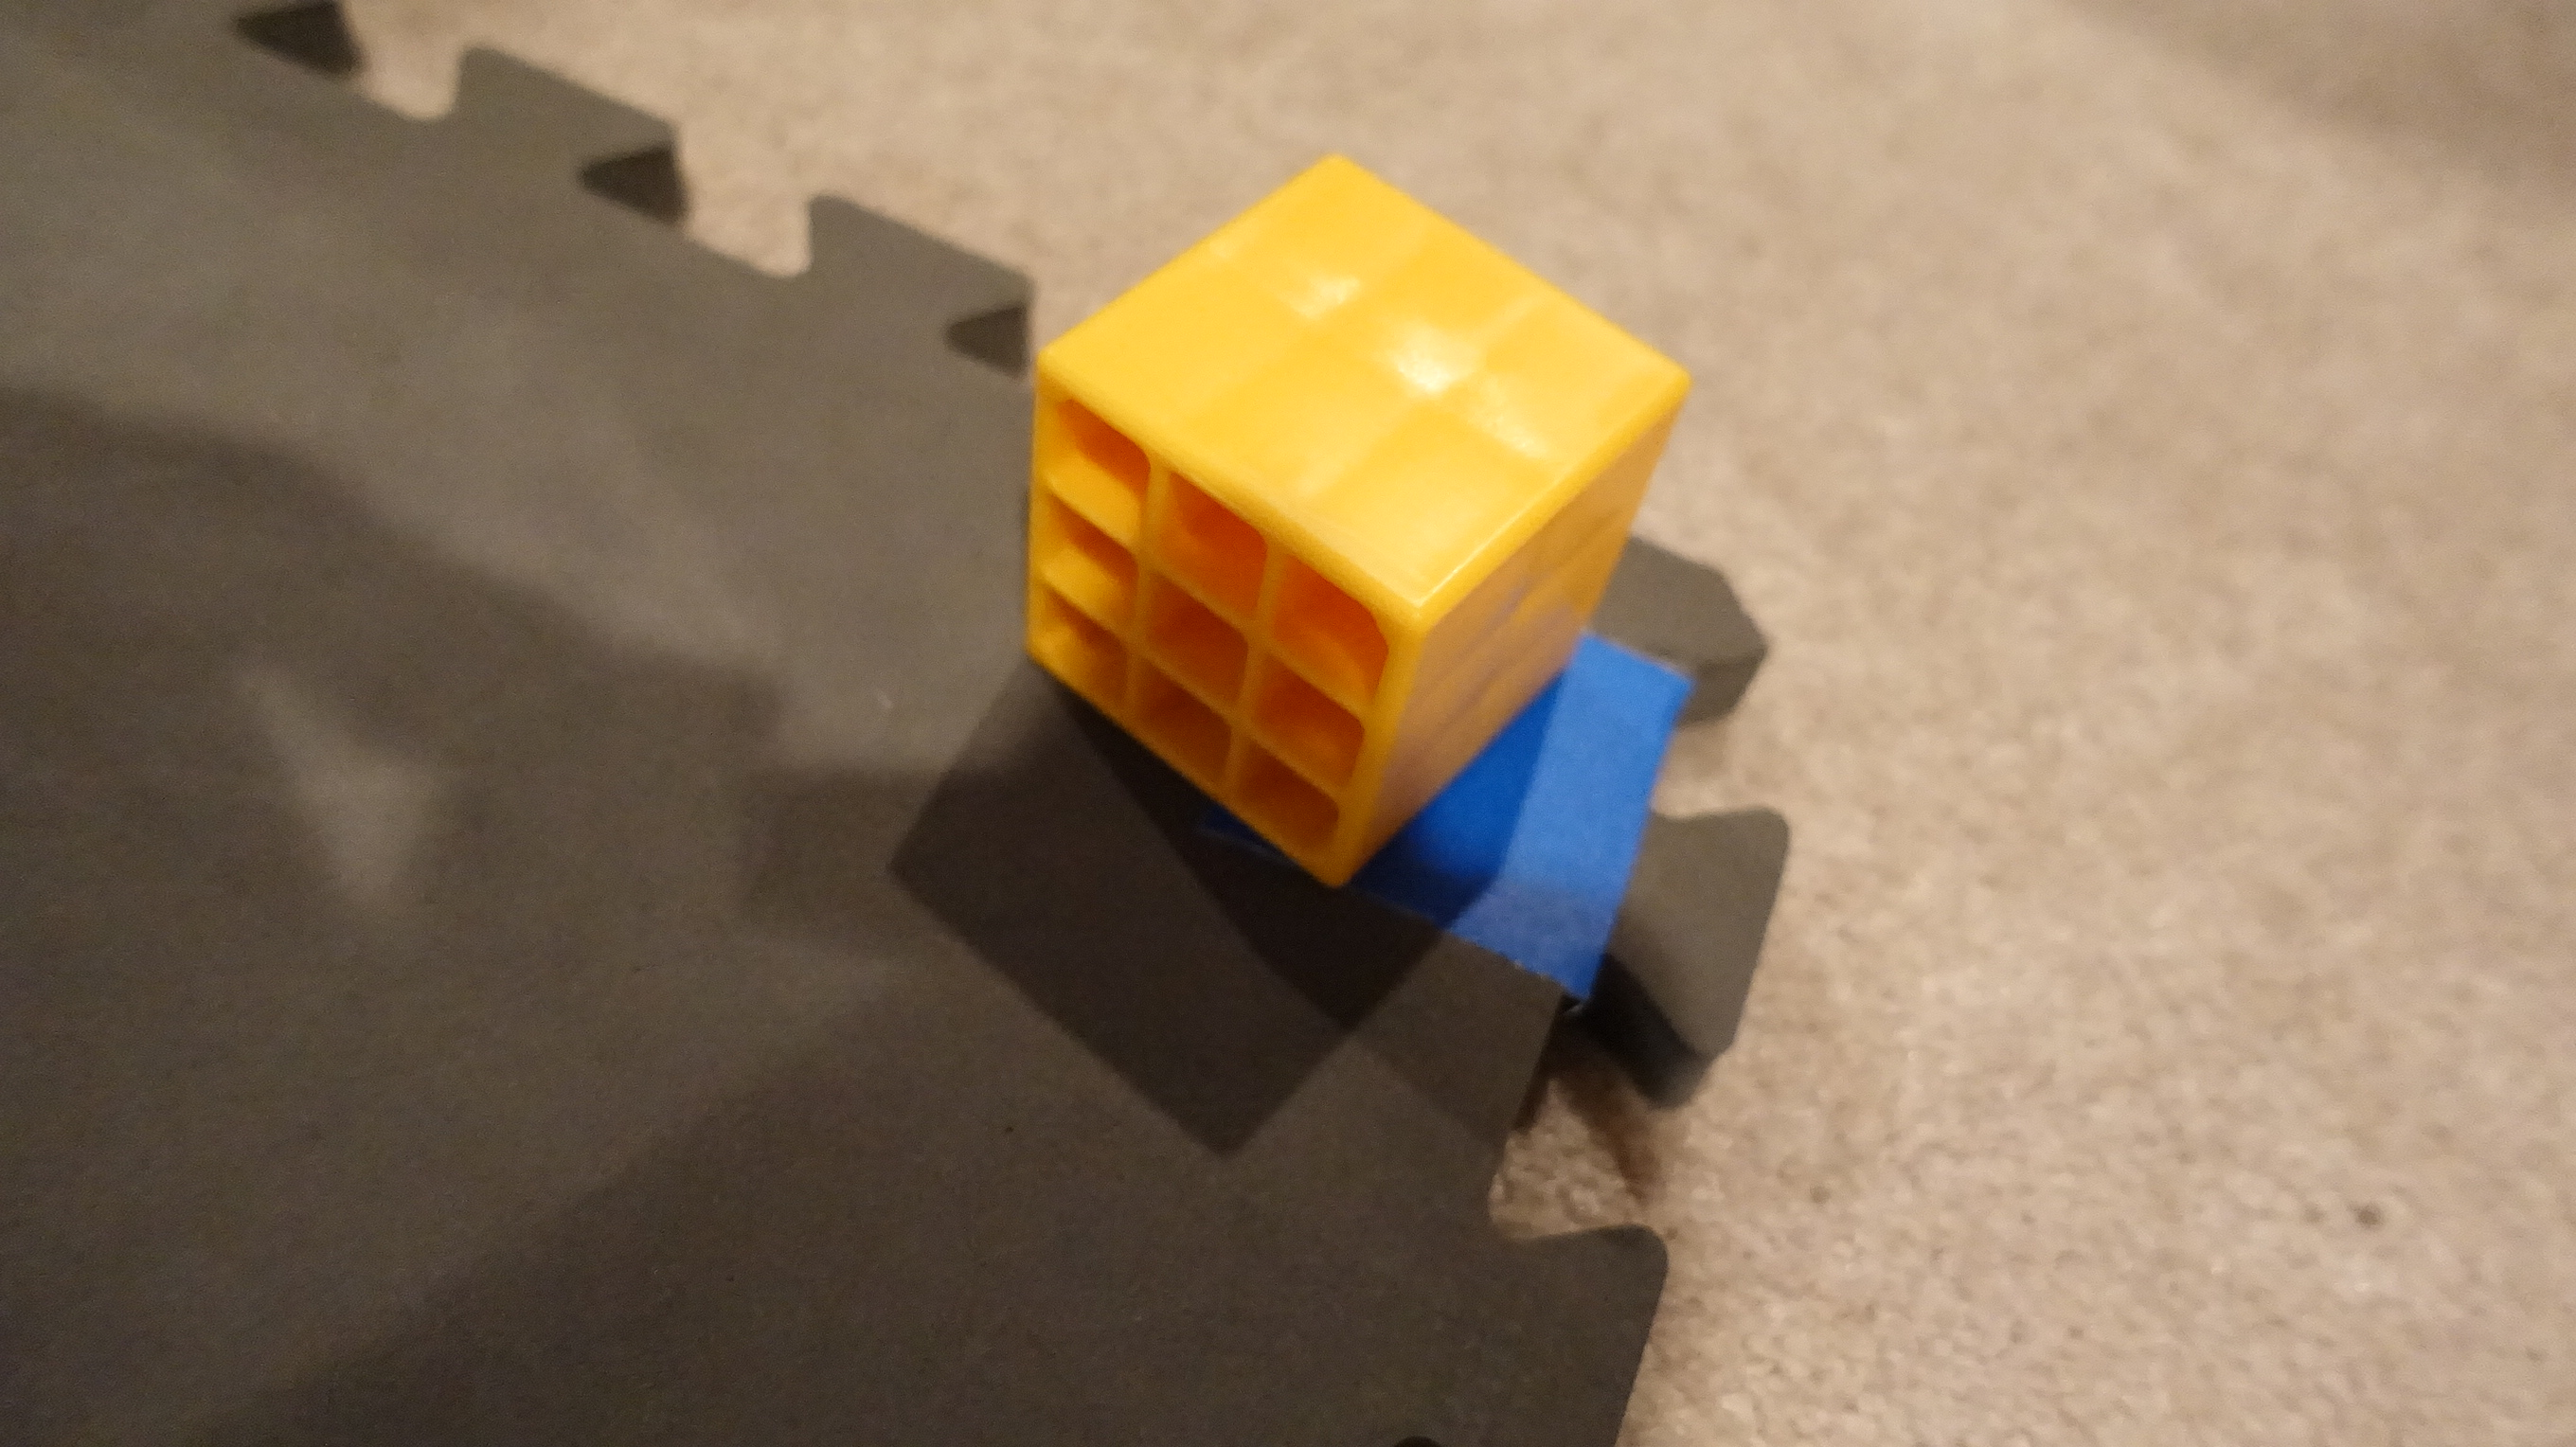gold: (1005, 150, 1707, 892)
